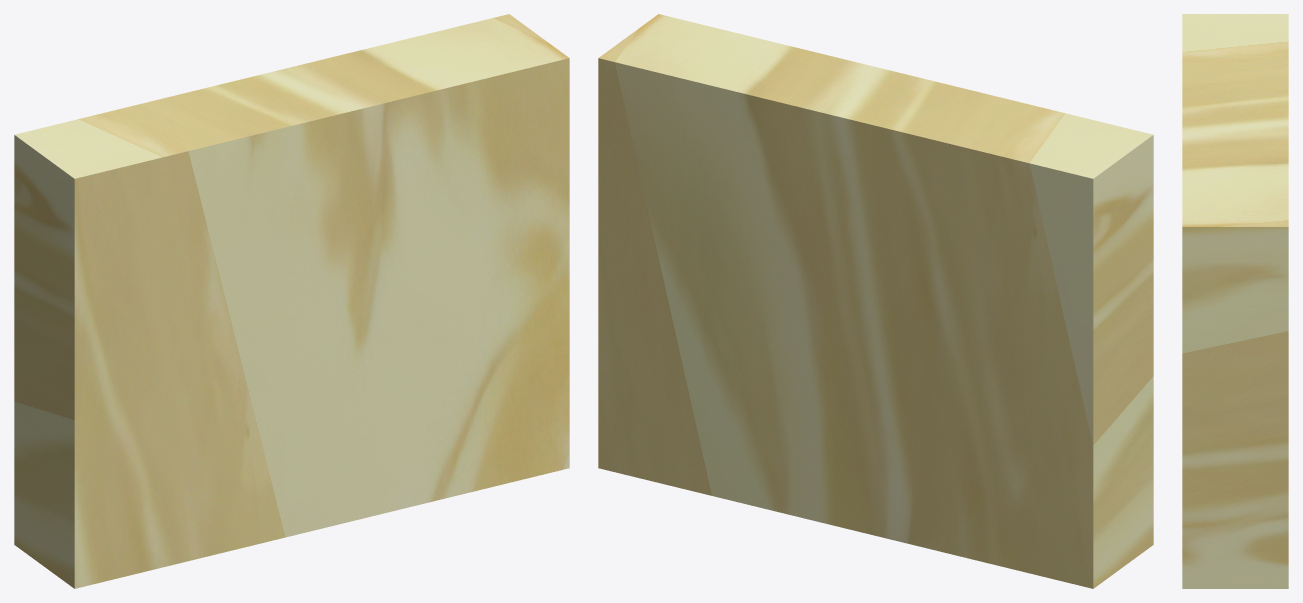
File: soap.gltf
The picture shows the model from 3 angles, left to right: view 1: azimuth 30°, elevation 25°; view 2: azimuth 150°, elevation 25°; view 3: azimuth 270°, elevation 25°; orthographic projection. The views are drawn at different scales.
Visible parts, largest first — view 1: мыло; view 2: мыло; view 3: мыло.
Part boxes in pixels (<box>): мыло: <box>14,14,569,588</box>; мыло: <box>598,14,1153,588</box>; мыло: <box>1182,14,1288,588</box>.
Size of the model in its own units: 0.0806 by 0.0638 by 0.017.
Materials: 1 (1 with a texture image).
